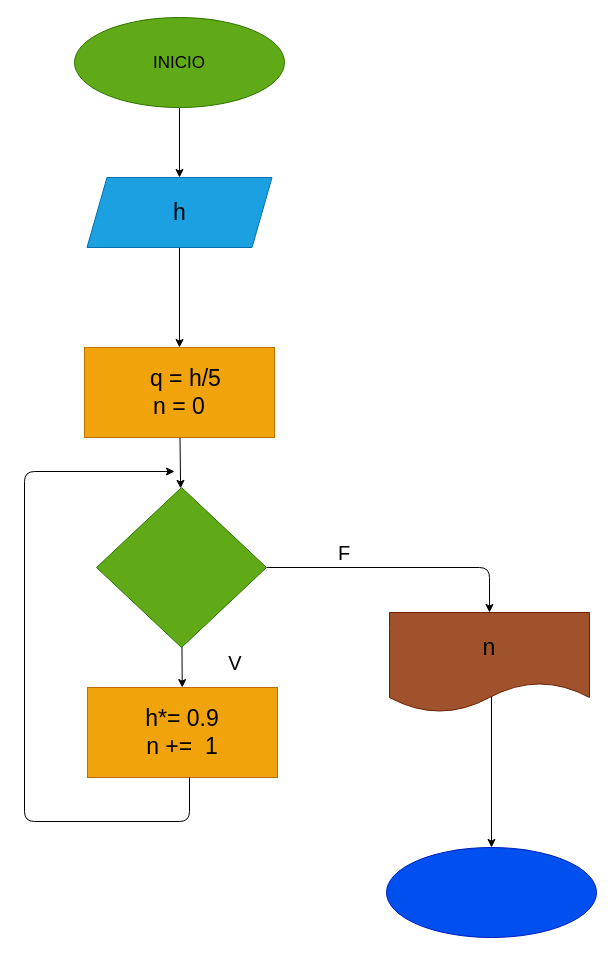
The diagram is 614 pixels wide and 955 high, and some of its shapes have lost their labels. Here are the shapes that lost their labels. From the top down, the centre of each, then its label:
pixel 181 567: h > q
pixel 491 892: FIN
